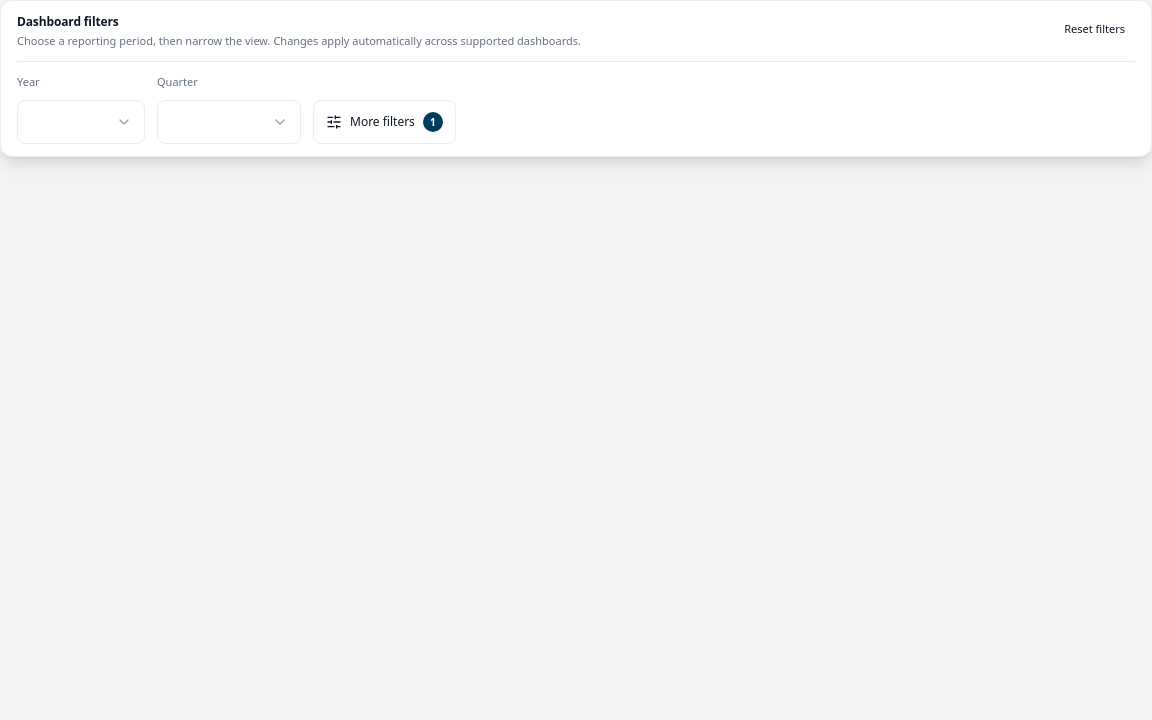
Test case: GlobalFilterBar › URL-backed selection › reads the initial selection from the query string
The image size is (1152, 720).
Click the button "More filters 1" at (384, 122), box [313,100,456,144]
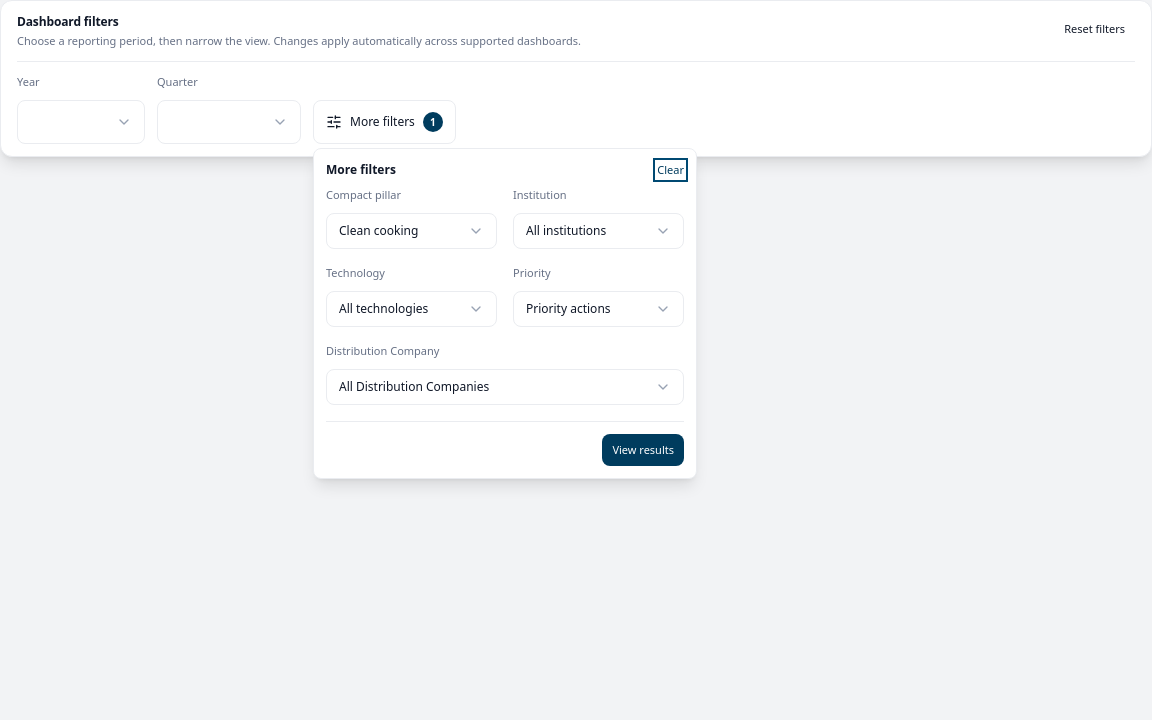
Expected: the dropdown named "Compact pillar" reads "Clean cooking", [326,213,497,249]
